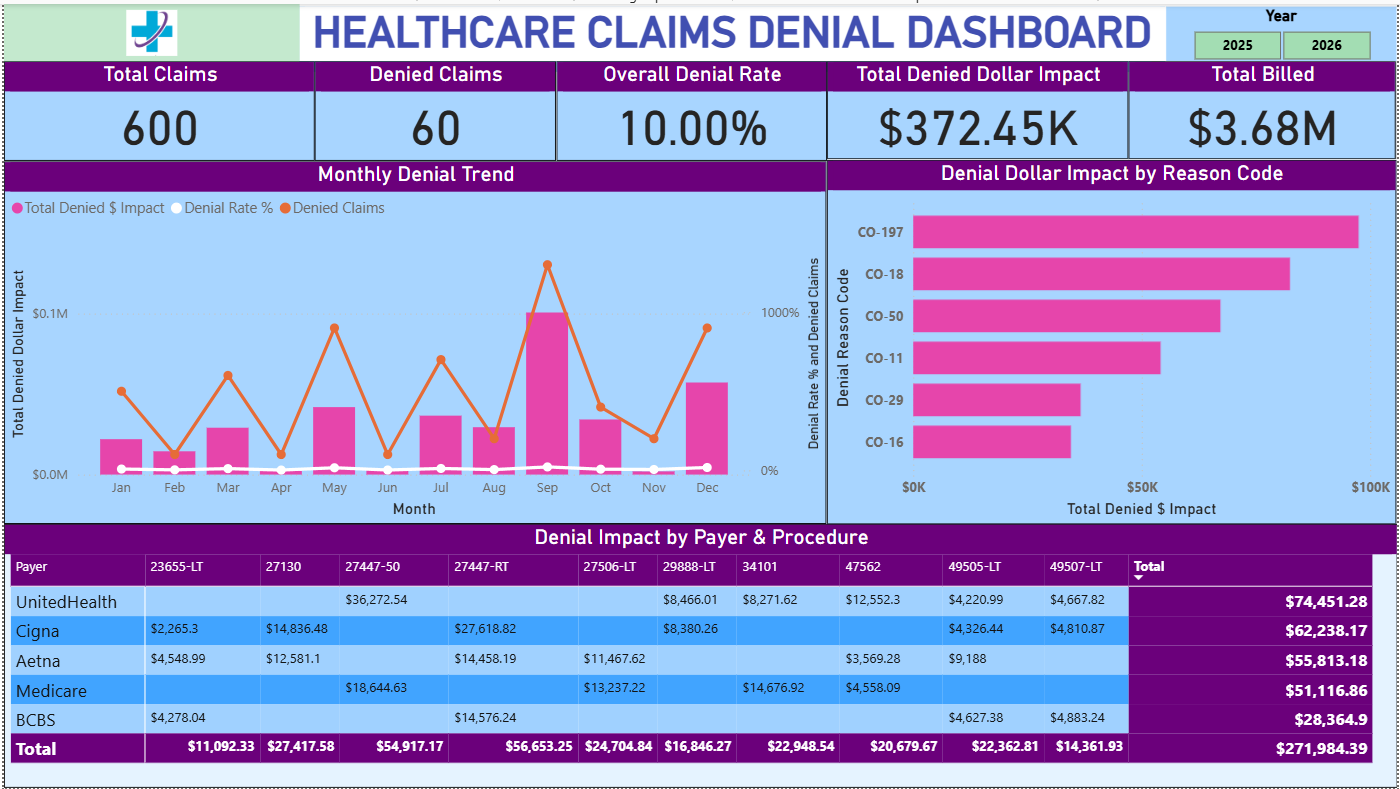

The page's visual inventory and layout, read from the dashboard file:
{"tool":"powerbi","page":{"name":"Page 1","canvas":[1280,720],"ordinal":0},"visuals":[{"type":"textbox","title":"HEALTHCARE CLAIMS DENIAL DASHBOARD","box":[271.4,2.9,795.7,60],"z":0},{"type":"card","title":"Overall Denial Rate ","fields":{"Values":["Table_of_Measures.Denial Rate %"]},"box":[507.1,52.9,248.6,91.4],"z":1000},{"type":"card","title":"Total Claims","fields":{"Values":["Table_of_Measures.Total Claims"]},"box":[0,52.9,285.7,91.4],"z":2000},{"type":"card","title":"Total Denied Dollar Impact","fields":{"Values":["Table_of_Measures.Total Denied $ Impact"]},"box":[755.7,52.9,277.1,90],"z":3000},{"type":"card","title":"Denied Claims ","fields":{"Values":["Table_of_Measures.Denied Claims"]},"box":[285.7,52.9,221.4,91.4],"z":4000},{"type":"card","title":"Total Billed ","fields":{"Values":["Table_of_Measures.Total Billed"]},"box":[1032.9,52.9,245.7,90],"z":5000},{"type":"lineClusteredColumnComboChart","title":"Monthly Denial Trend","fields":{"Category":["DateTable.Month Short"],"Y":["Table_of_Measures.Total Denied $ Impact"],"Y2":["Table_of_Measures.Denial Rate %","Table_of_Measures.Denied Claims"]},"box":[0,144.3,755.7,332.9],"z":6000},{"type":"clusteredBarChart","title":"Denial Dollar Impact by Reason Code","fields":{"Category":["Claims.denial_reason_code"],"Y":["Table_of_Measures.Total Denied $ Impact"]},"box":[755.7,142.9,522.9,334.3],"z":7000},{"type":"pivotTable","title":"Denial Impact by Payer & Procedure","fields":{"Columns":["Claims.cpt_code"],"Rows":["Claims.payer"],"Values":["Table_of_Measures.Total Denied $ Impact"]},"box":[0,477.5,1280,242.5],"z":8000},{"type":"slicer","title":"Year","fields":{"Values":["DateTable.Year"]},"box":[1067.1,2.9,211.4,50],"z":9000},{"type":"image","box":[0,0,271.4,52.9],"z":10000}]}

Visuals, with their boxes in screenshot pixels (x1, y1, x2, y2), scaled from the page's 1280x720 canvas onto the 1400x789 screenshot:
"HEALTHCARE CLAIMS DENIAL DASHBOARD" textbox: [297,3,1167,69]
"Overall Denial Rate " card: [555,58,827,158]
"Total Claims" card: [0,58,312,158]
"Total Denied Dollar Impact" card: [827,58,1130,157]
"Denied Claims " card: [312,58,555,158]
"Total Billed " card: [1130,58,1398,157]
"Monthly Denial Trend" lineClusteredColumnComboChart: [0,158,827,523]
"Denial Dollar Impact by Reason Code" clusteredBarChart: [827,157,1398,523]
"Denial Impact by Payer & Procedure" pivotTable: [0,523,1399,788]
"Year" slicer: [1167,3,1398,58]
image: [0,0,297,58]
